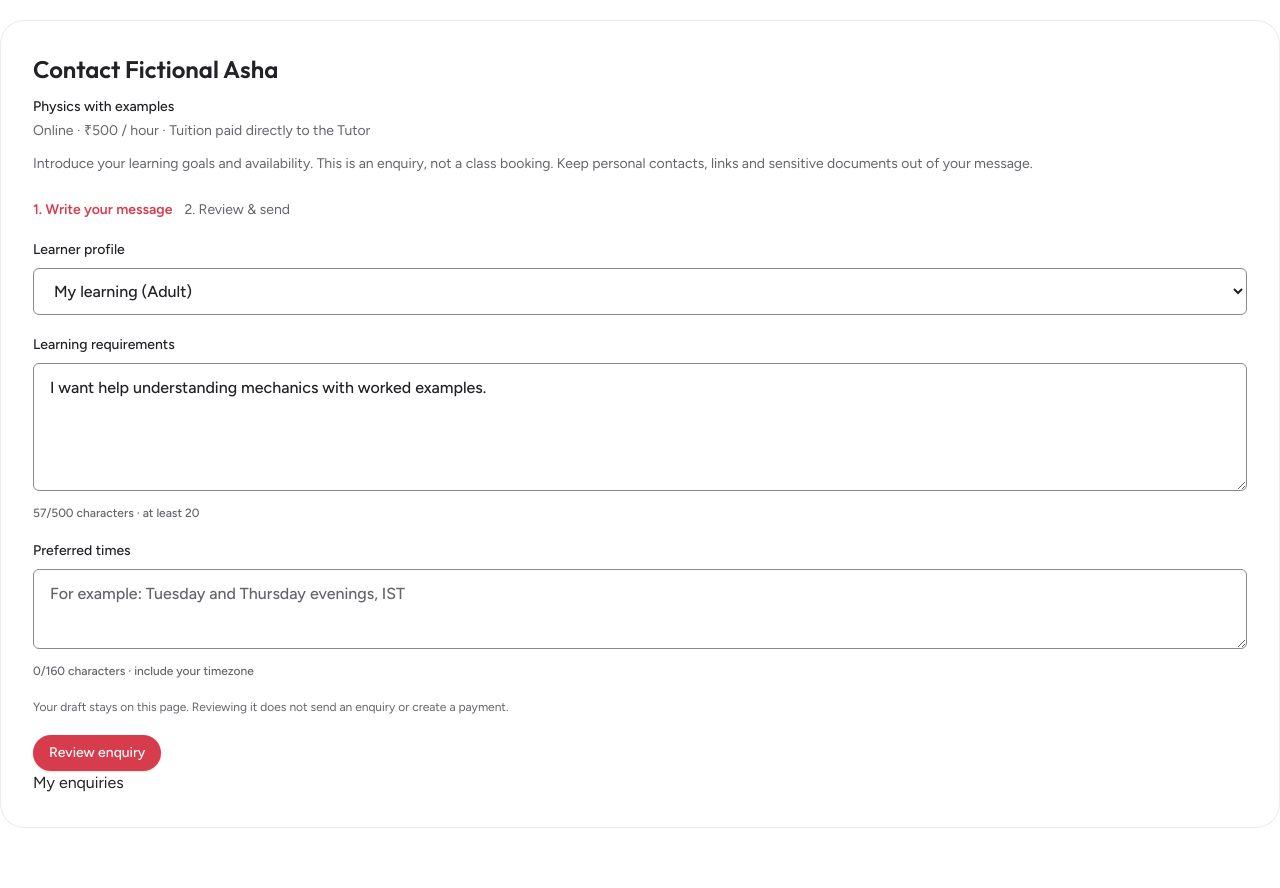
retries an ambiguous failure with the identical request key and does not show success early
In the text box labelled "Preferred times": coordinates (640, 609) [33, 569, 1247, 649], type "Tuesday evening IST"
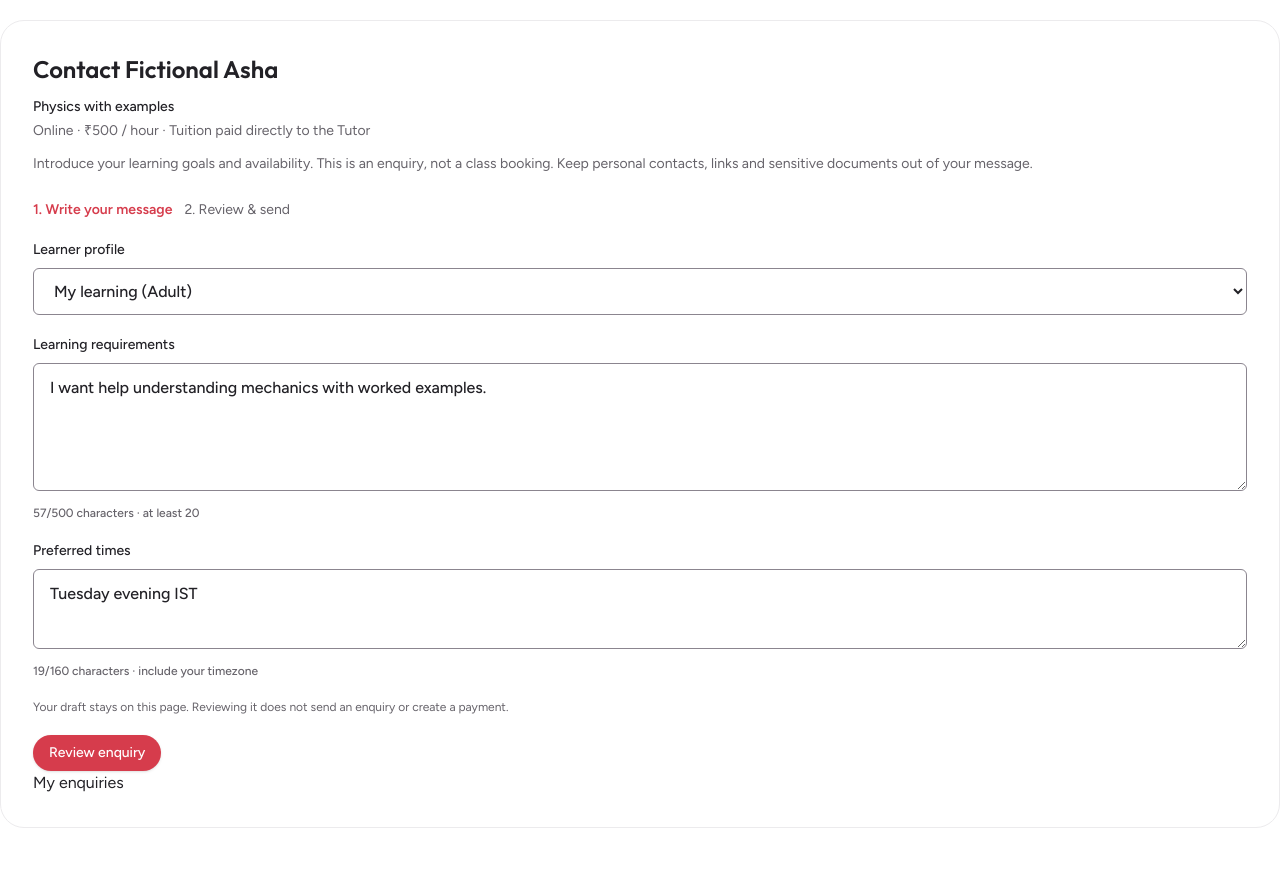
Click the button "Review enquiry": coordinates (97, 753) [33, 735, 161, 771]
(page scrolled)
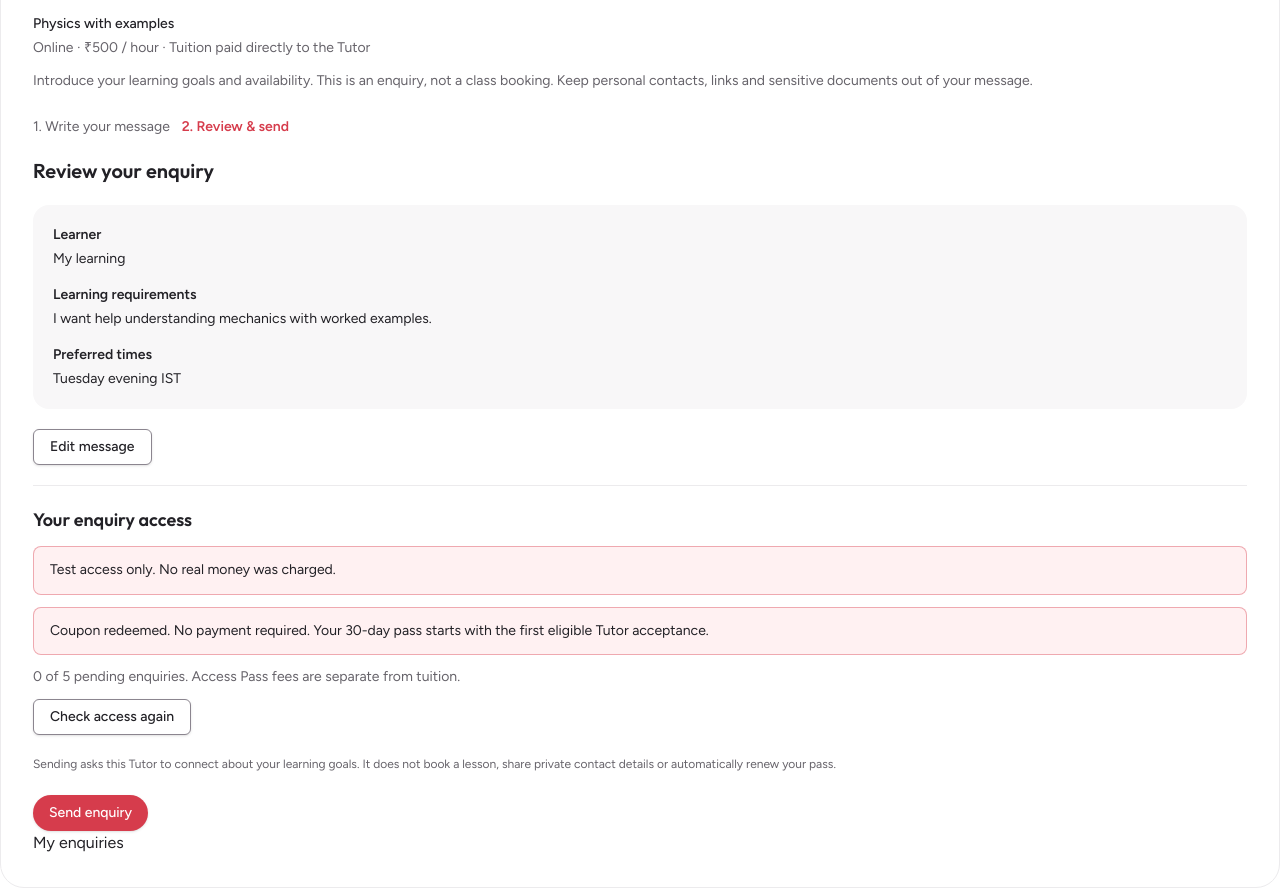
Check: the heading "Review your enquiry" is shown, box [33, 158, 214, 183]
Click the button "Send enquiry": coordinates (91, 813) [33, 795, 148, 831]
(page scrolled)
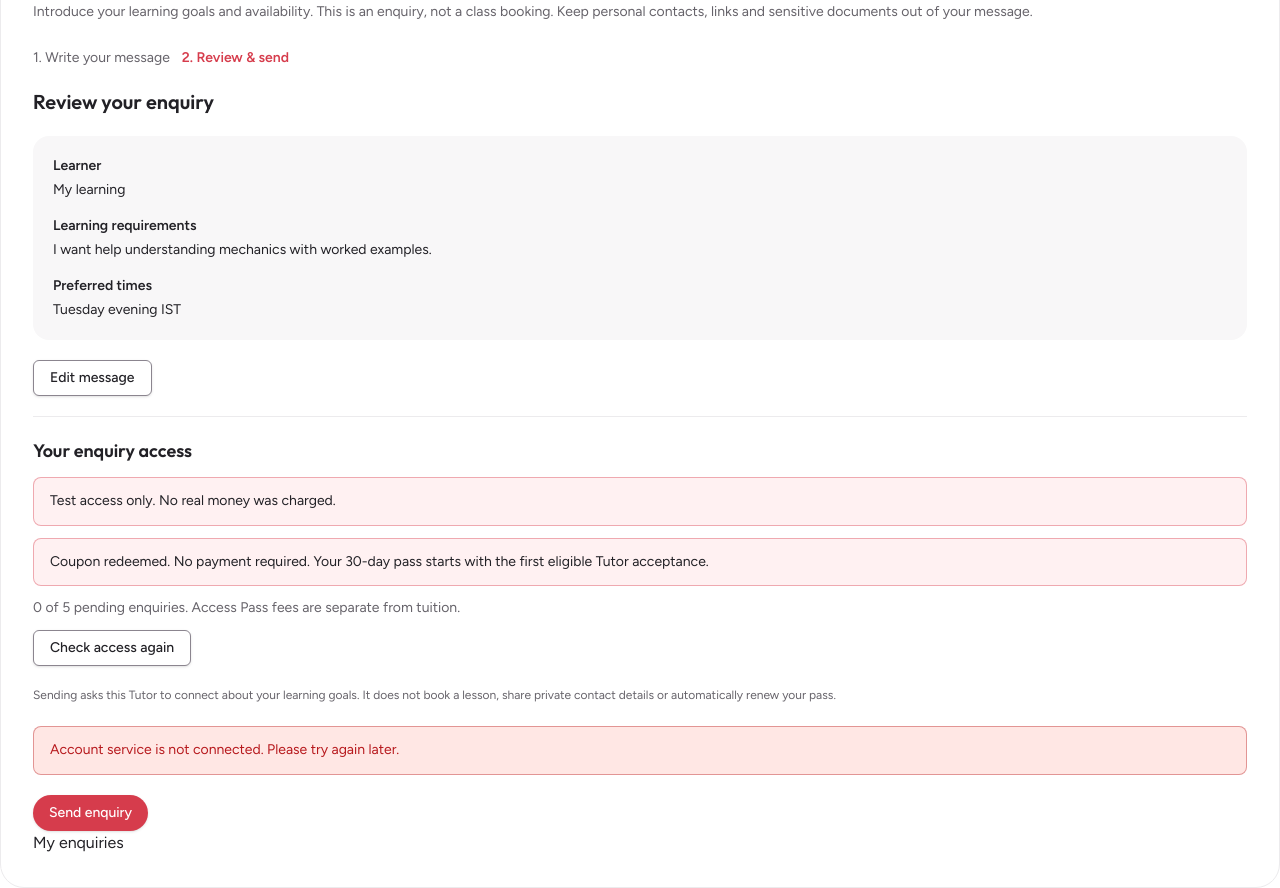
Check: the text "Enquiry submitted" is not shown
Check: the button "Send enquiry" is enabled
Click the button "Send enquiry": coordinates (91, 812) [33, 794, 148, 830]
(page scrolled)
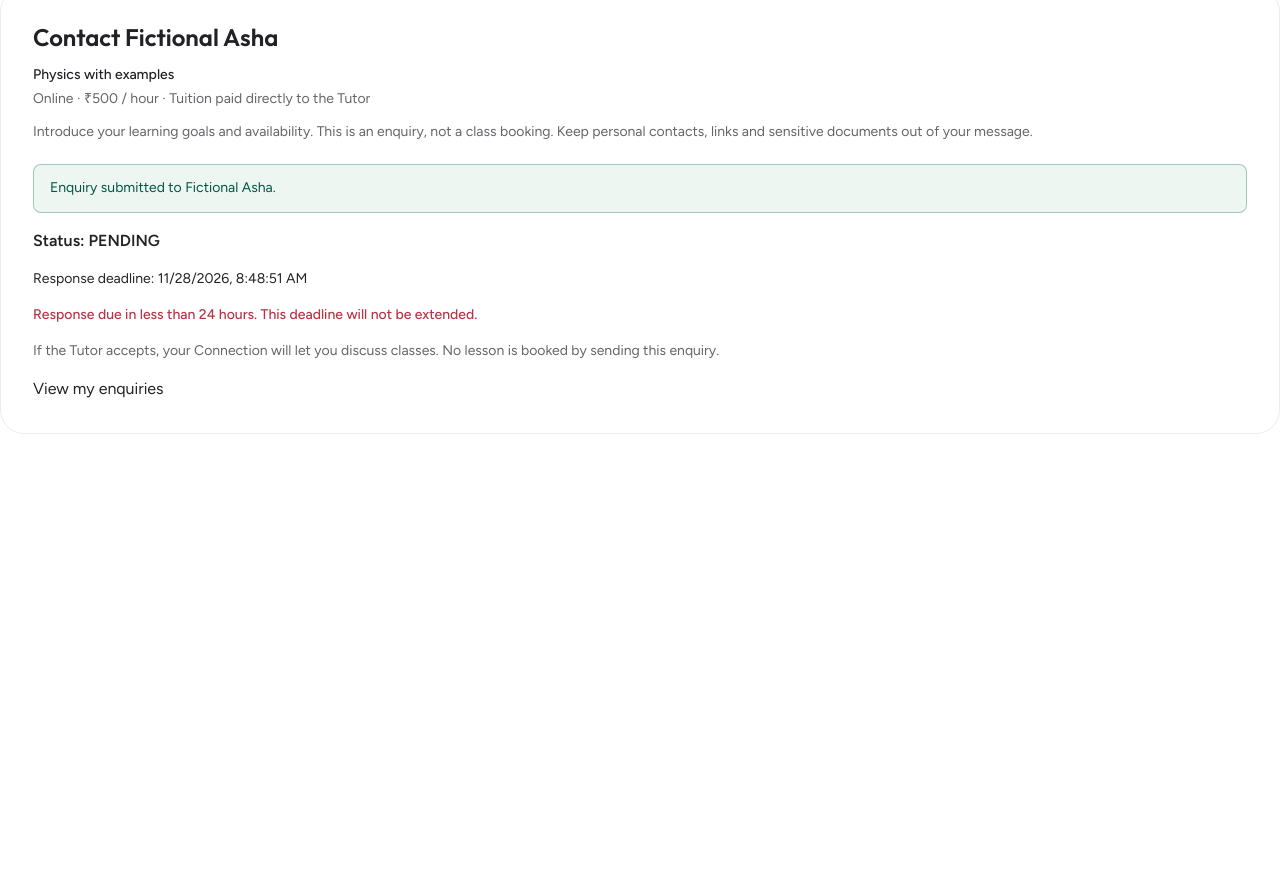
Check: the text "Enquiry submitted to Fictional Asha." is shown, box [33, 164, 1247, 213]
